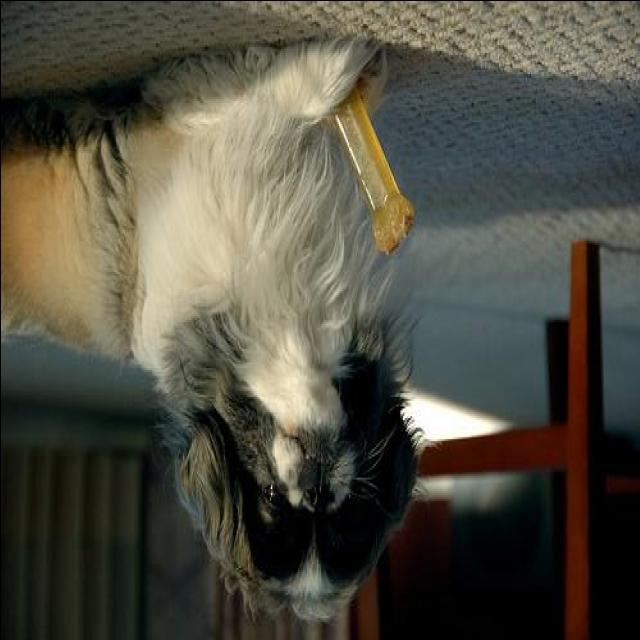pekinese: (1, 25, 429, 625)
